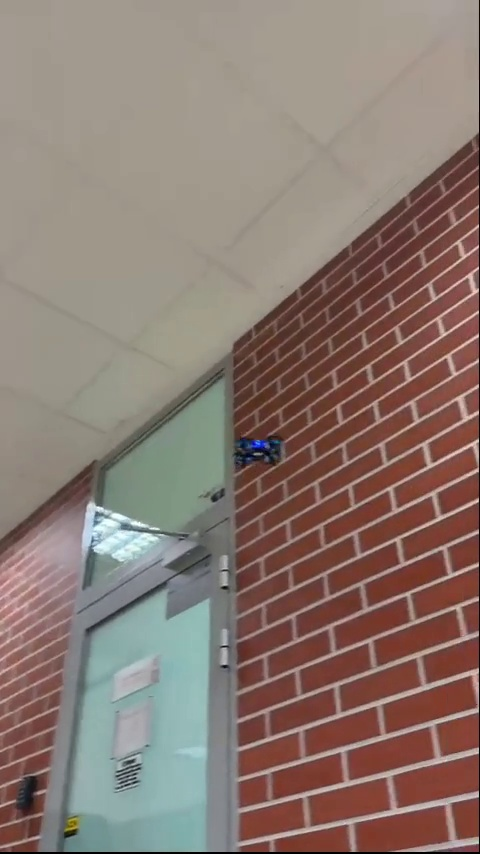drone: (234, 431, 282, 467)
